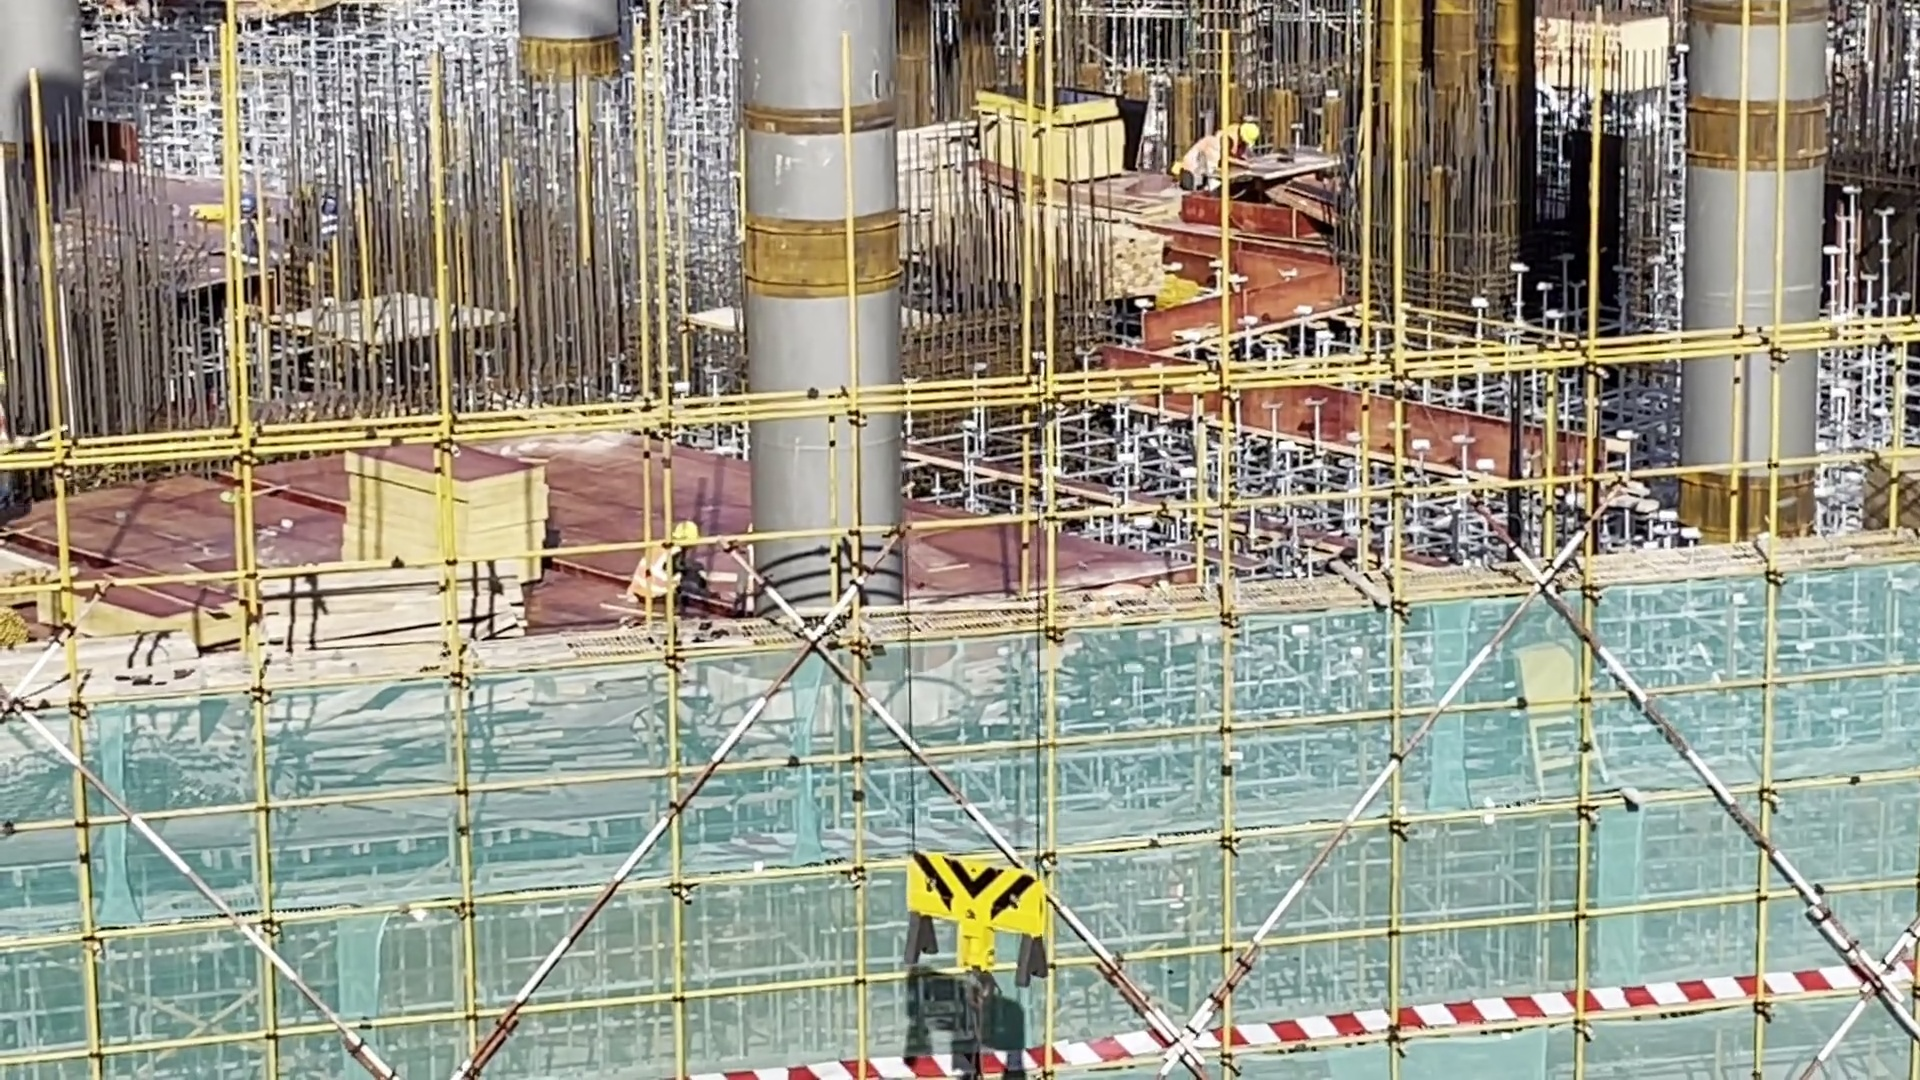board: (342, 434, 546, 583)
hook: (904, 847, 1050, 996)
person: (635, 518, 711, 611), (1182, 120, 1258, 180)
vest: (639, 541, 679, 598)
wood: (1862, 447, 1920, 532)
